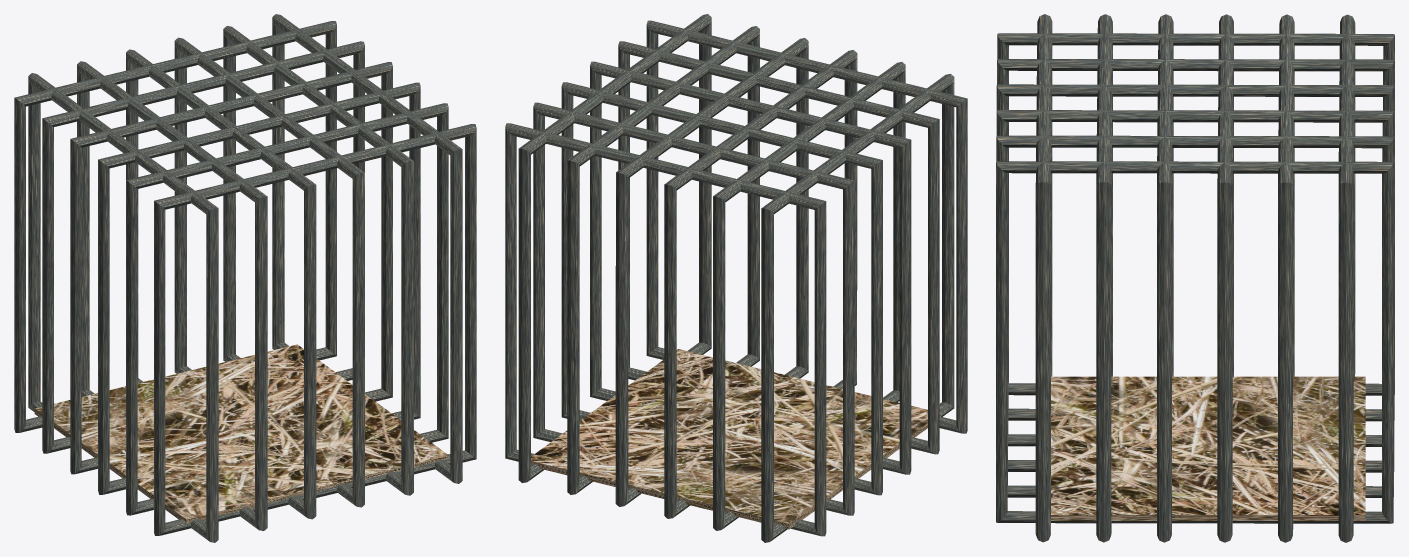
The model's file is Prison.fbx.
3 renders of one model, left to right at view 1: azimuth 30°, elevation 25°; view 2: azimuth 150°, elevation 25°; view 3: azimuth 270°, elevation 25°, orthographic. The views are drawn at different scales.
Parts seen in each view (by area): view 1: Circle; view 2: Circle; view 3: Circle.
Part boxes in pixels (left/top/right/bottom): Circle: left=14, top=14, right=476, bottom=542; Circle: left=505, top=14, right=967, bottom=542; Circle: left=996, top=14, right=1394, bottom=542.
Size of the model in its own units: 202 by 201 by 202.
Materials: 2 (2 with a texture image).
